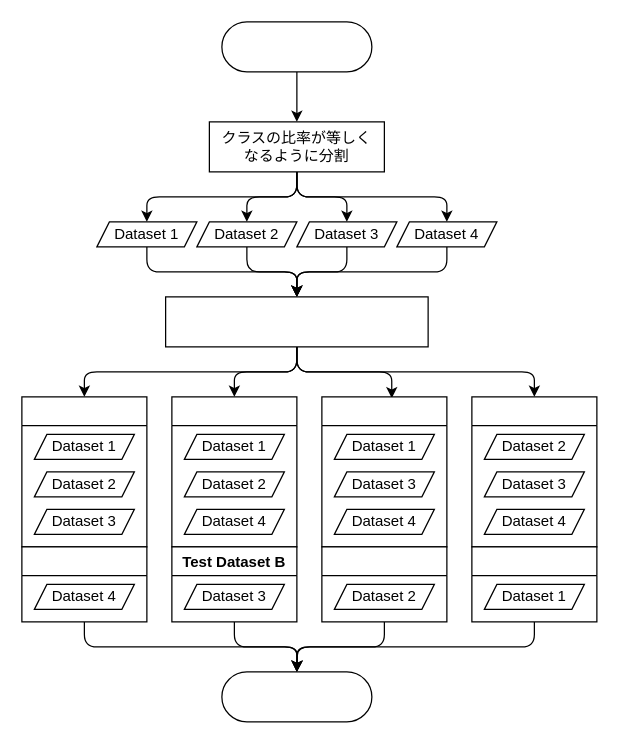
Image size: 619x744. Some labels were removed from this diagram. The box of each missing label's shape, as (x1, y1, x2, y2) in pixels:
Dataset: (221, 21, 372, 72)
Dataset A〜D: (221, 671, 372, 722)
Test Dataset A: (21, 546, 147, 622)
Test Dataset C: (321, 546, 447, 622)
Test Dataset D: (471, 546, 597, 622)
Train Dataset A: (21, 396, 147, 547)
Train Dataset B: (171, 396, 297, 547)
Train Dataset C: (321, 396, 447, 547)
Train Dataset D: (471, 396, 597, 547)
Train DataとTest Dataが 3:1となるように組み合わせる: (164, 296, 428, 347)
